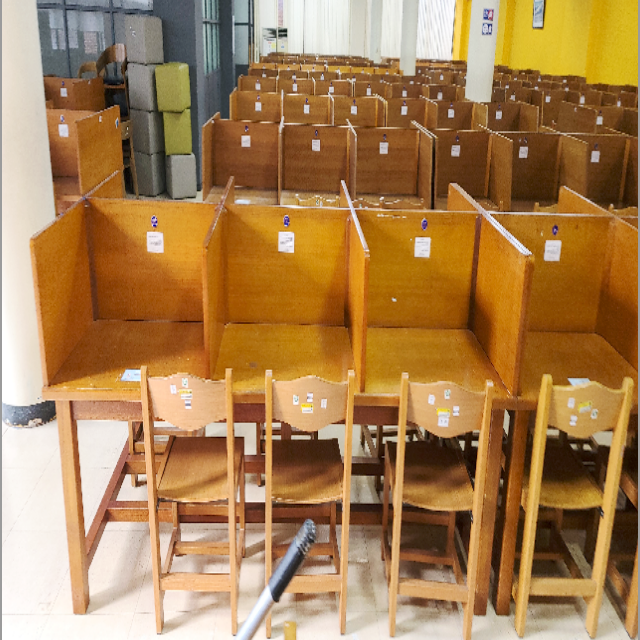empty: (34, 190, 206, 487), (374, 193, 516, 492), (211, 192, 367, 462)
